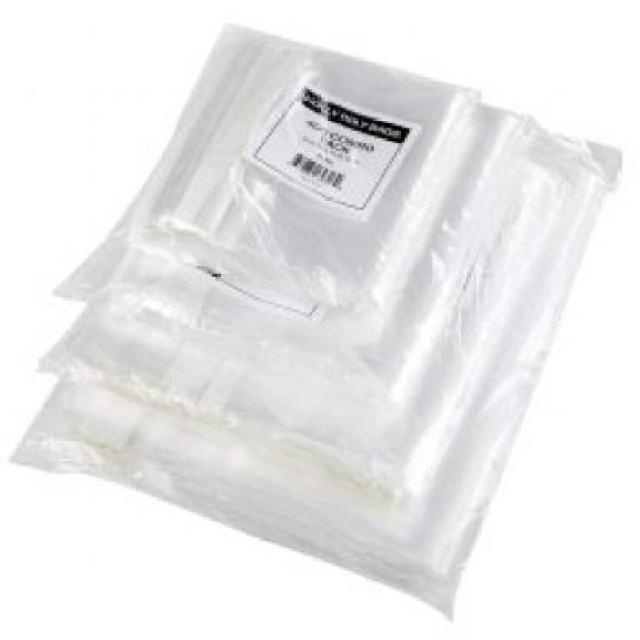plastic bag: (3, 26, 638, 618)
